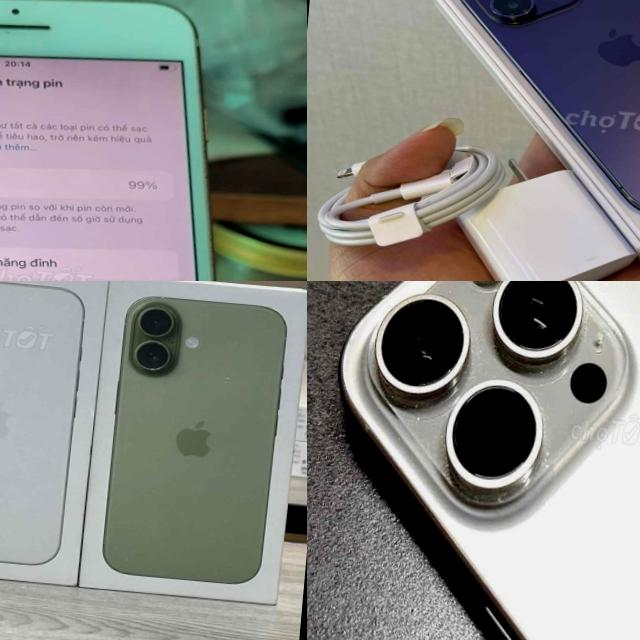gen_14: (433, 0, 640, 229)
gen_16: (339, 281, 640, 640)
gen_17: (99, 282, 294, 594), (0, 281, 98, 573)
gen_7_8: (0, 0, 292, 281)
scratch: (0, 26, 23, 39)
